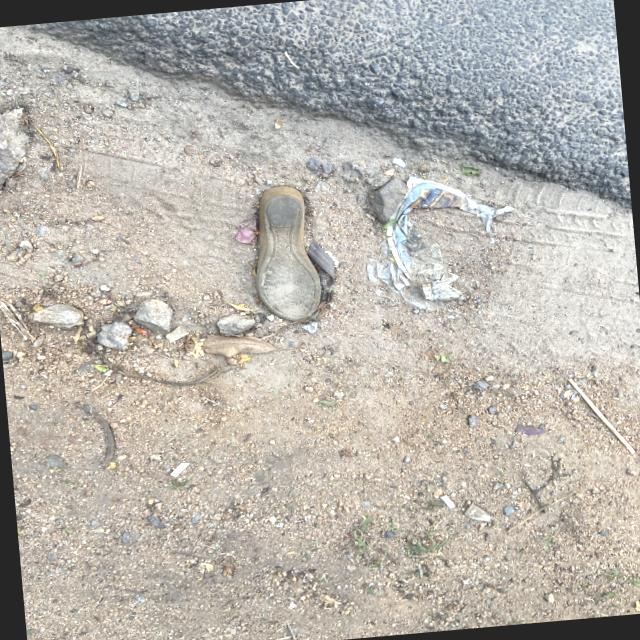dep: (255, 185, 321, 320)
